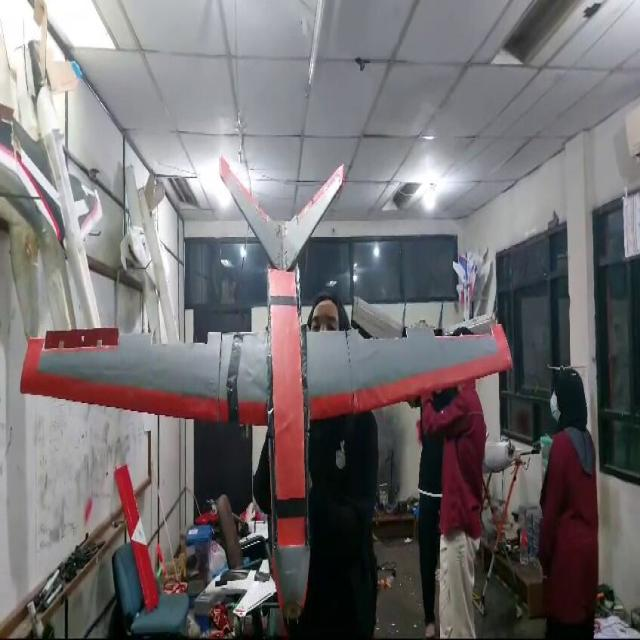plane: (20, 152, 513, 634)
